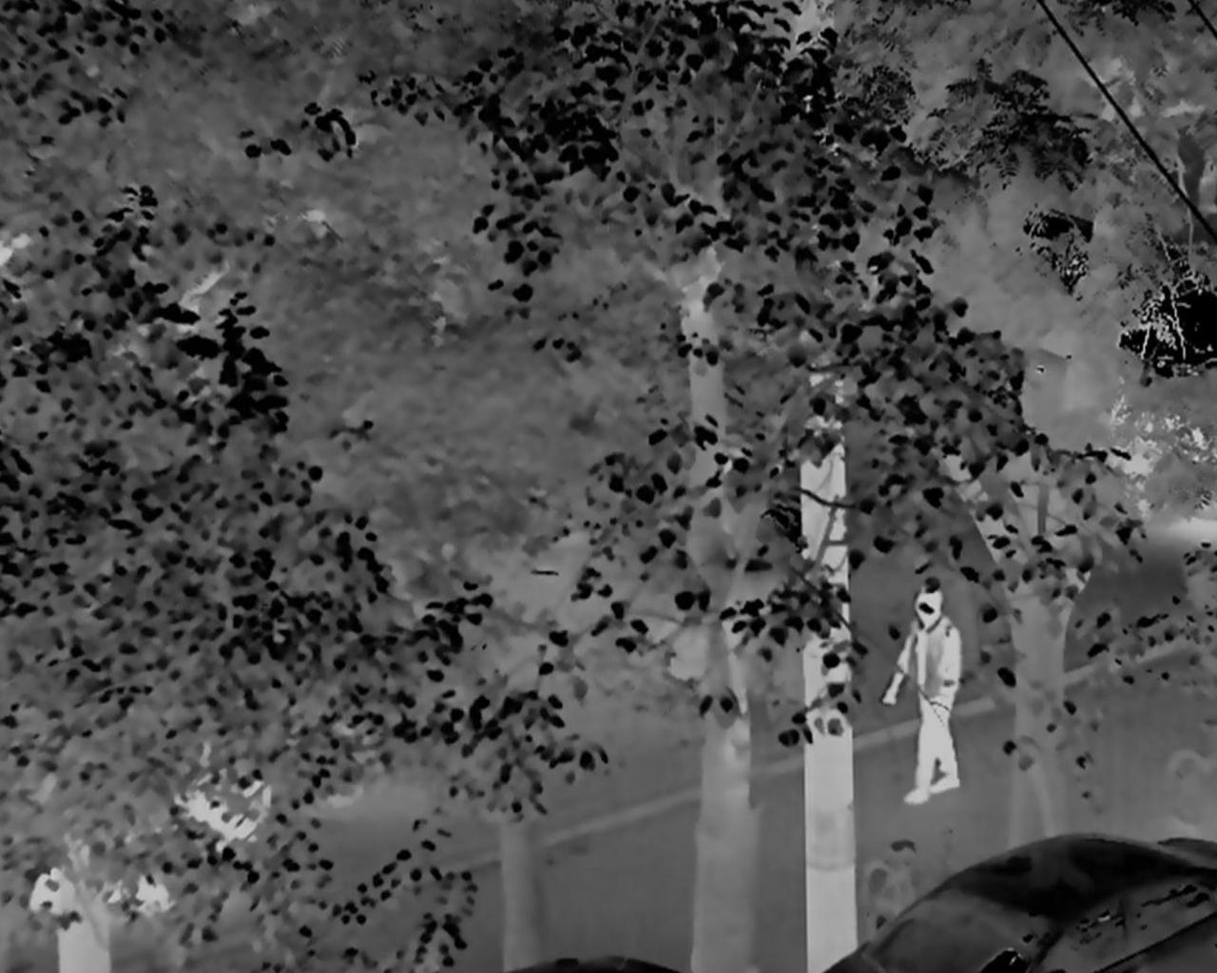person: (889, 583, 966, 807)
